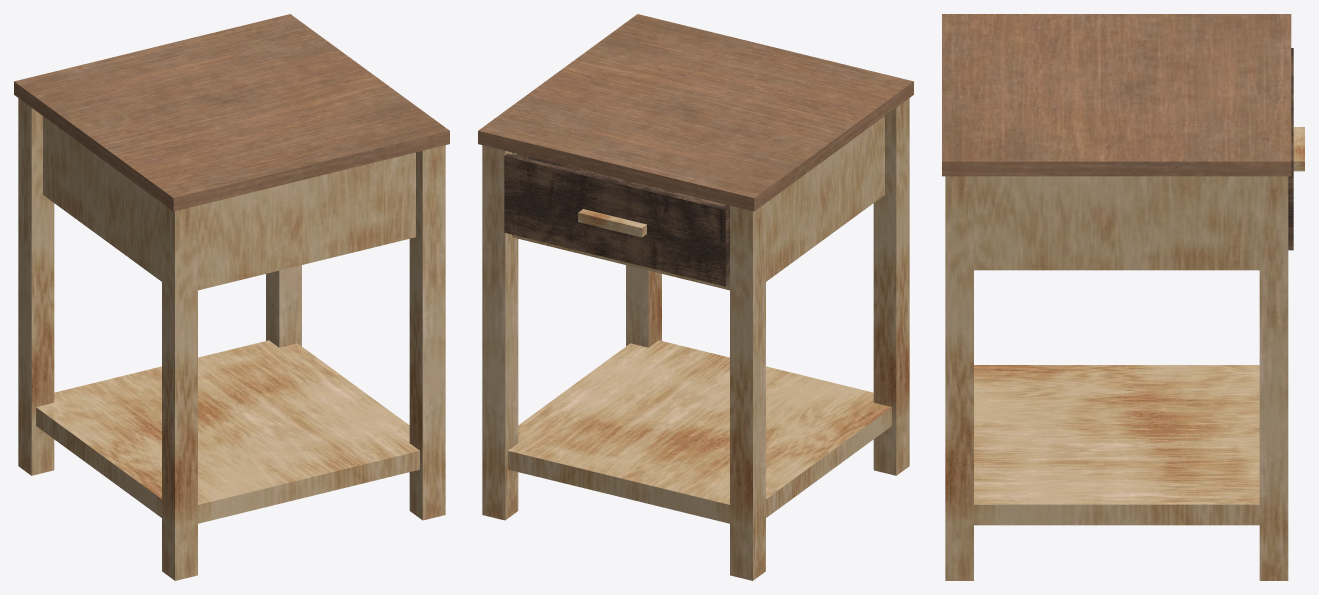
File: Table_42-col.glb
3 renders of one model, left to right at view 1: azimuth 30°, elevation 25°; view 2: azimuth 150°, elevation 25°; view 3: azimuth 270°, elevation 25°, orthographic. The views are drawn at different scales.
Visible parts, largest first — view 1: Table_42-col; view 2: Table_42-col, Drawer; view 3: Table_42-col, Drawer.
Part boxes in pixels (x1,y1,x2,y2): Table_42-col: (14, 14, 449, 580); Table_42-col: (478, 14, 913, 580); Drawer: (504, 153, 729, 286); Table_42-col: (942, 14, 1291, 580); Drawer: (1288, 48, 1304, 250).
Size of the model in its own units: 0.526 by 0.6993 by 0.5464.
Materials: 3 (3 with a texture image).
